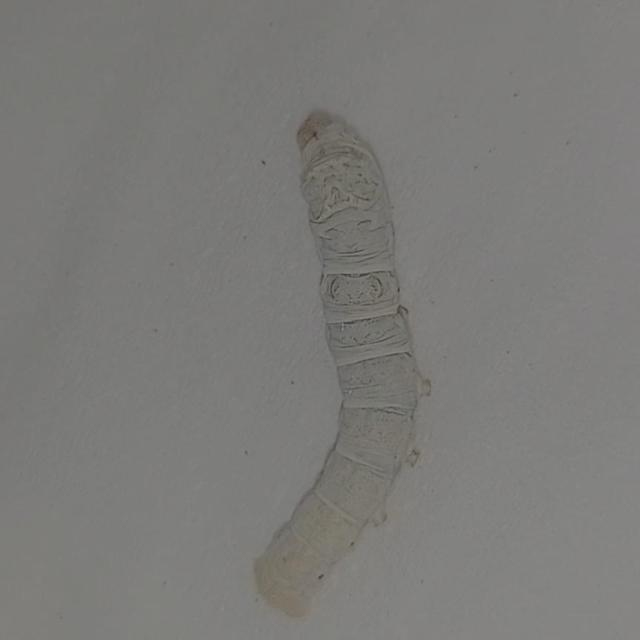Healthy: (240, 89, 460, 629)
